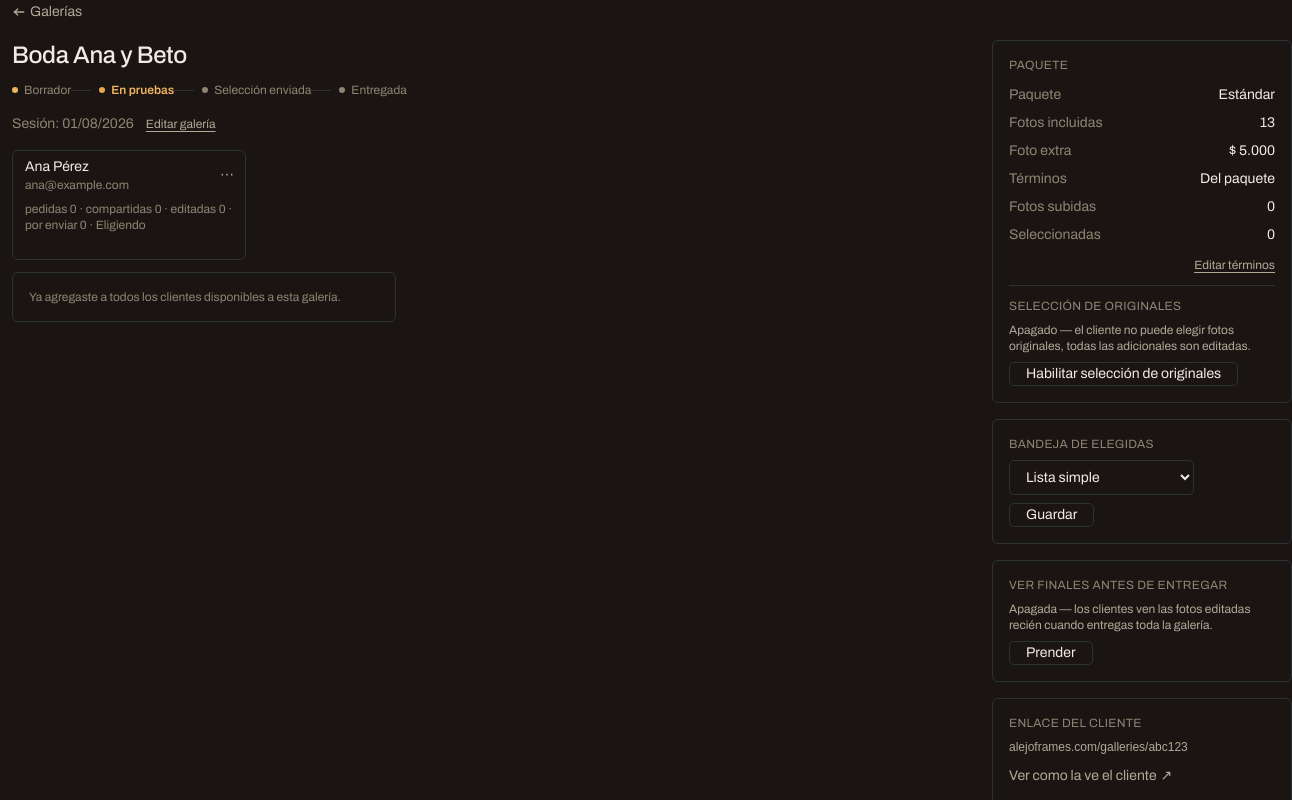
Test: GalleryDetailPage — resend affordance wiring (task #101) › shows 'Reenviar acceso' for a client-visible gallery (proofing)
This screenshot has width=1292, height=800.
Click the button named "Acciones para Ana Pérez": coordinates (227, 175) [215,163,239,187]
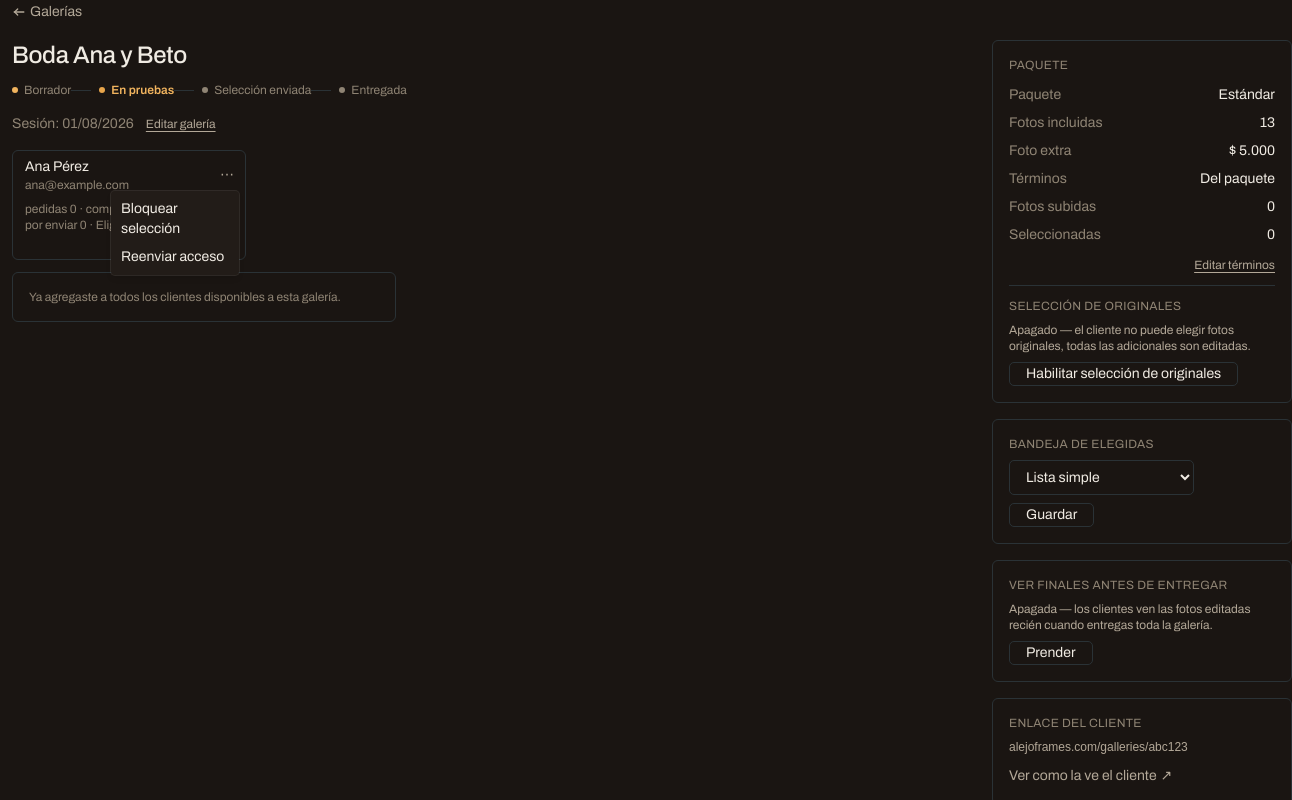
Expected: the menu item "Reenviar acceso" is shown, [121,249,224,264]
